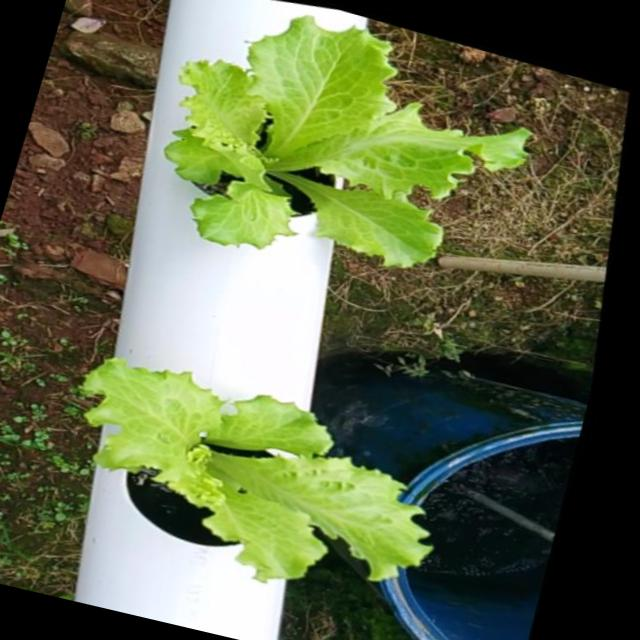Baby: (161, 13, 527, 268), (77, 362, 427, 587)
